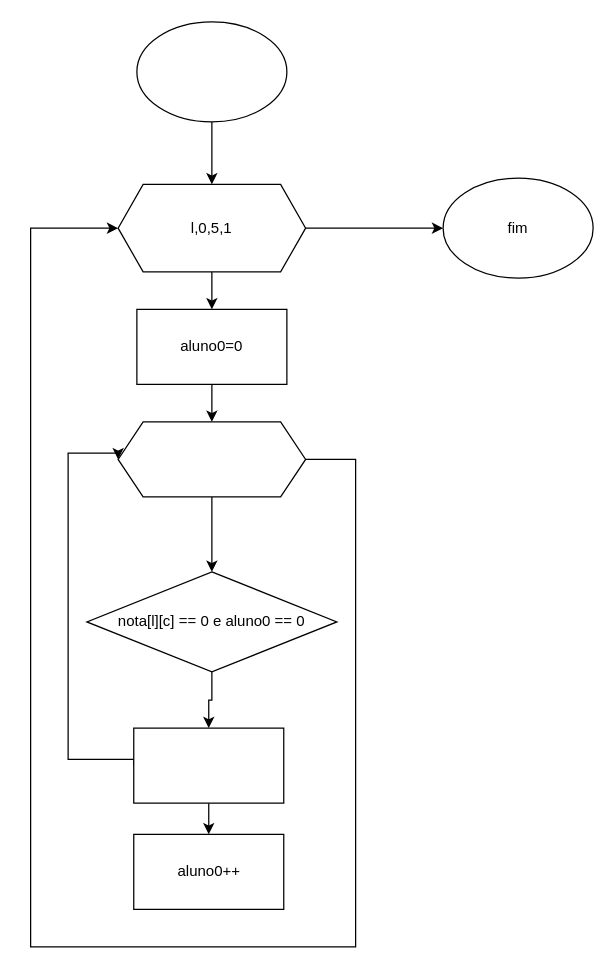
Image size: 615x979. Some labels were removed from this diagram. The shapes that lost their labels are listed below. From the top down, each one's box as (x1, y1, x2, y2) in pixels, then its label:
(136, 21, 287, 122): inicio
(117, 421, 306, 497): c,0,3,1
(132, 727, 284, 803): zero++
